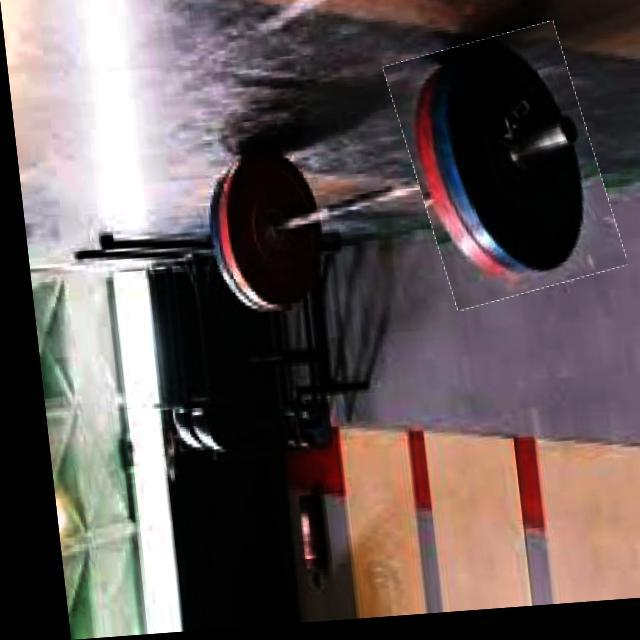barbell: (390, 35, 612, 313)
